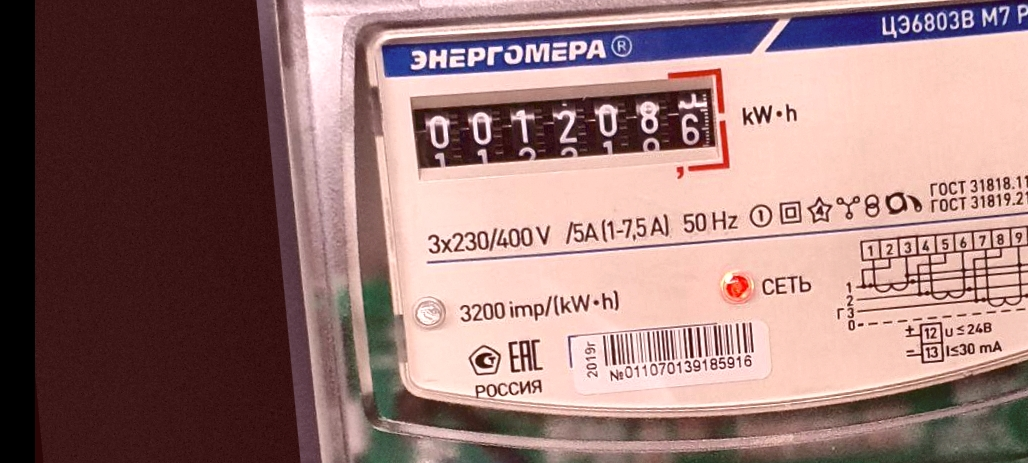0: (425, 109, 455, 151), (469, 107, 496, 147), (594, 100, 621, 138)
1: (511, 105, 535, 146)
2: (553, 105, 583, 146)
6: (677, 109, 703, 147)
8: (635, 97, 663, 136)
screen: (403, 59, 741, 203)
